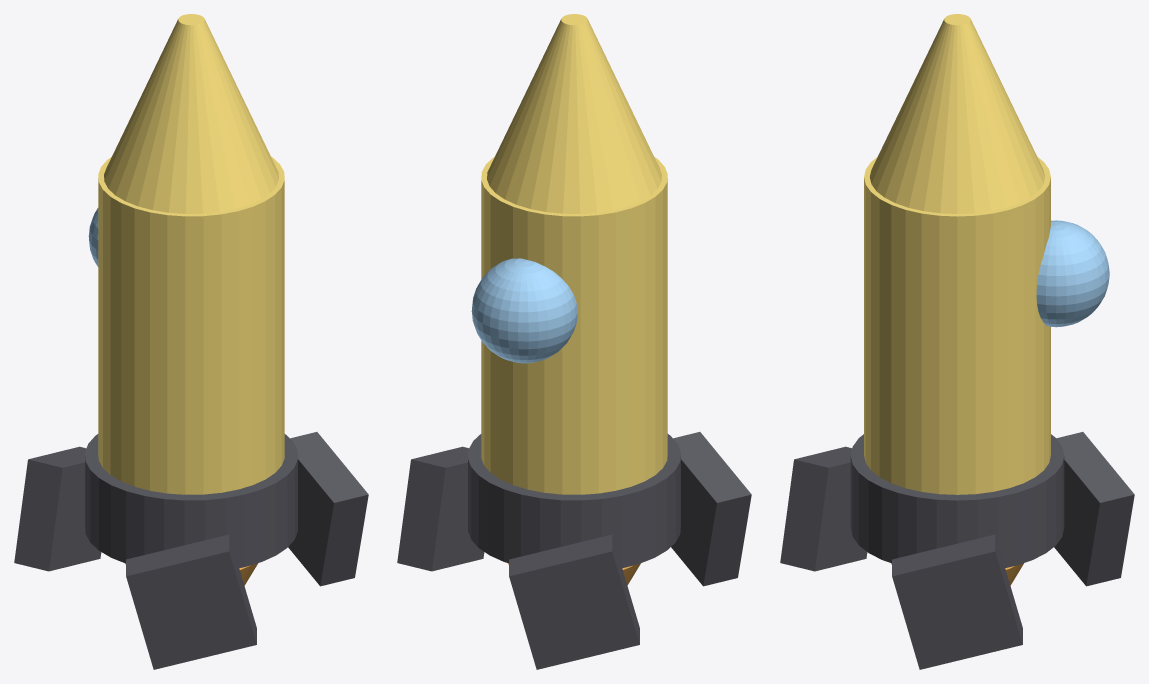
Rendered from spaceship.glb.
3 views of the same model, side by side, from view 1: azimuth 30°, elevation 25°; view 2: azimuth 150°, elevation 25°; view 3: azimuth 270°, elevation 25° (orthographic).
Visible parts, largest first — view 1: Cylinder, Cone, Cylinder.001, Cube.002, Cube, Cube.001; view 2: Cylinder, Cone, Cylinder.001, Cube.001, Sphere, Cube.002, Cube; view 3: Cylinder, Cone, Cylinder.001, Cube, Cube.001, Cube.002, Sphere.
Part boxes in pixels (x1,y1,x2,y2): Cylinder: (98, 156, 284, 494); Cone: (104, 14, 278, 213); Cylinder.001: (85, 434, 297, 567); Cube.002: (126, 534, 256, 669); Cube: (288, 432, 368, 586); Cube.001: (14, 446, 101, 571); Cylinder: (481, 156, 667, 494); Cone: (487, 14, 661, 213); Cylinder.001: (468, 434, 680, 568); Cube.001: (509, 534, 639, 669); Sphere: (471, 258, 577, 363); Cube.002: (671, 432, 751, 586); Cube: (397, 446, 484, 571); Cylinder: (864, 157, 1050, 494); Cone: (870, 14, 1044, 213); Cylinder.001: (850, 434, 1064, 567); Cube: (892, 534, 1022, 669); Cube.001: (1054, 432, 1134, 586); Cube.002: (780, 446, 867, 571); Sphere: (1036, 220, 1109, 327).
Bounding box in the file's own units: 1.15 × 2.62 × 1.33.
